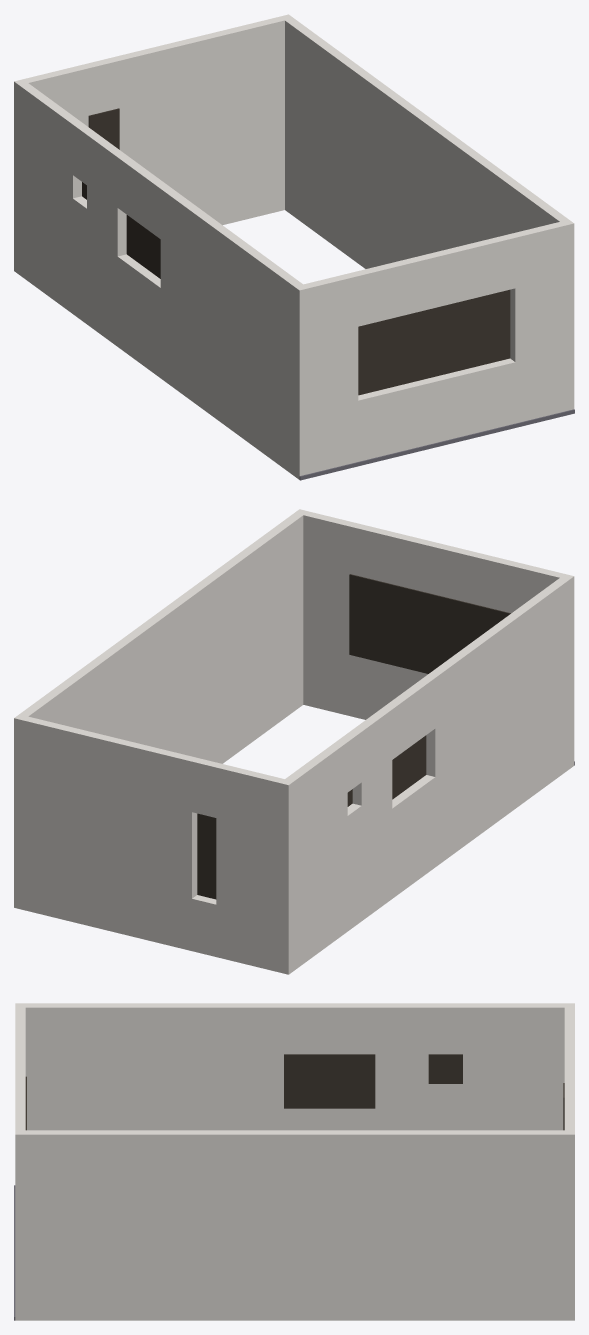
The model's file is SM_Floor_NarrowUpperWindowEndL_White_455_Back_01.gltf.
3 views of the same model, one above another, from view 1: azimuth 30°, elevation 25°; view 2: azimuth 150°, elevation 25°; view 3: azimuth 270°, elevation 25° (orthographic). The views are drawn at different scales.
Parts seen in each view (by area): view 1: SM_Floor_NarrowUpperWindowEndL_White_455_Back_01; view 2: SM_Floor_NarrowUpperWindowEndL_White_455_Back_01; view 3: SM_Floor_NarrowUpperWindowEndL_White_455_Back_01.
Boxes of the visible parts, box(x1,y1,x2,y2) form: SM_Floor_NarrowUpperWindowEndL_White_455_Back_01: box(14, 14, 574, 480); SM_Floor_NarrowUpperWindowEndL_White_455_Back_01: box(14, 509, 574, 974); SM_Floor_NarrowUpperWindowEndL_White_455_Back_01: box(14, 1003, 574, 1320).
Size of the model in its own units: 4.55 by 3 by 8.21.
Materials: 1 (1 with a texture image).
